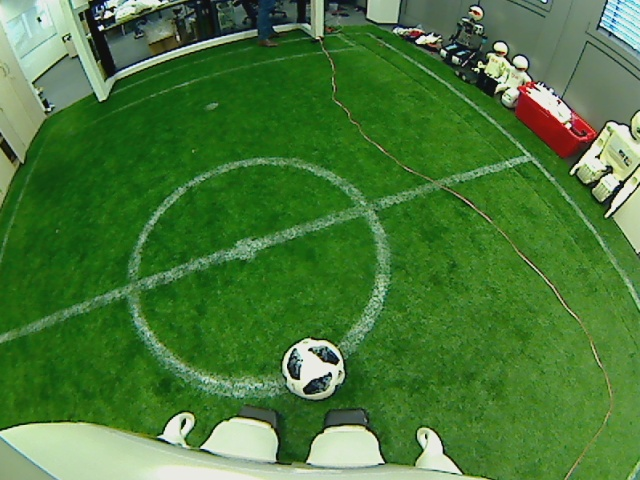ball: (280, 336, 346, 400)
